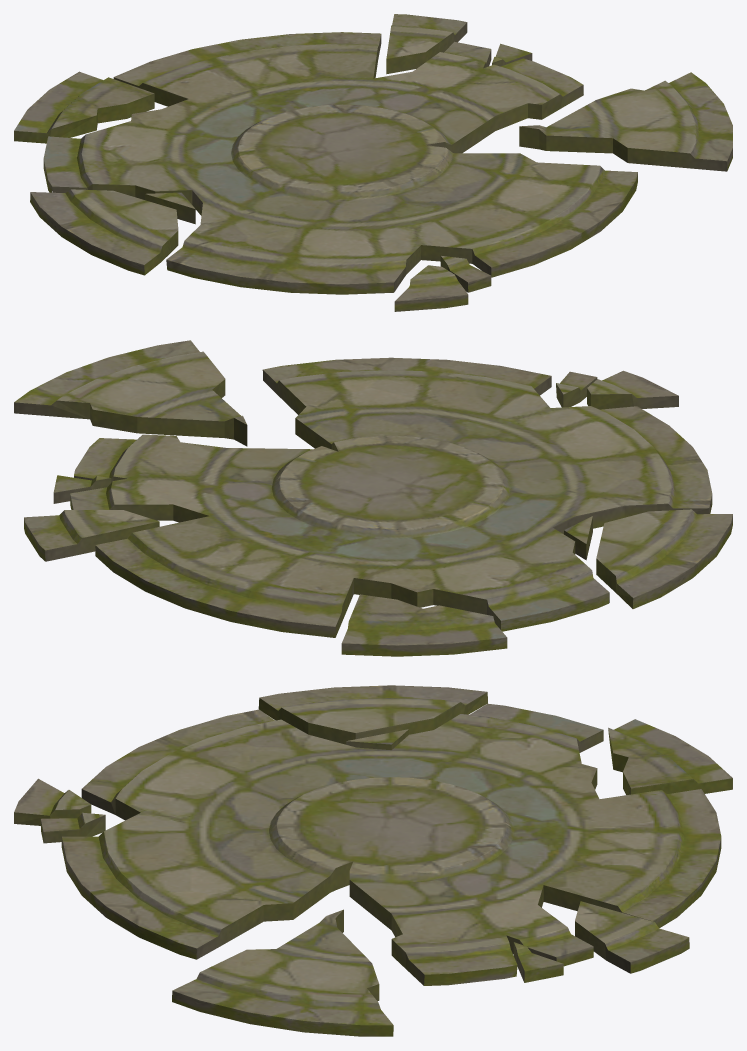
File: dapingtai.fbx
3 renders of one model, top to bottom at view 1: azimuth 30°, elevation 25°; view 2: azimuth 150°, elevation 25°; view 3: azimuth 270°, elevation 25°, orthographic. The views are drawn at different scales.
Visible parts, largest first — view 1: dapingtai; view 2: dapingtai; view 3: dapingtai.
Part boxes in pixels (x1,y1,x2,y2): dapingtai: [14, 14, 732, 311]; dapingtai: [14, 340, 732, 656]; dapingtai: [14, 685, 732, 1036].
Bounding box in the file's own units: 10.35 × 0.3174 × 9.26.
